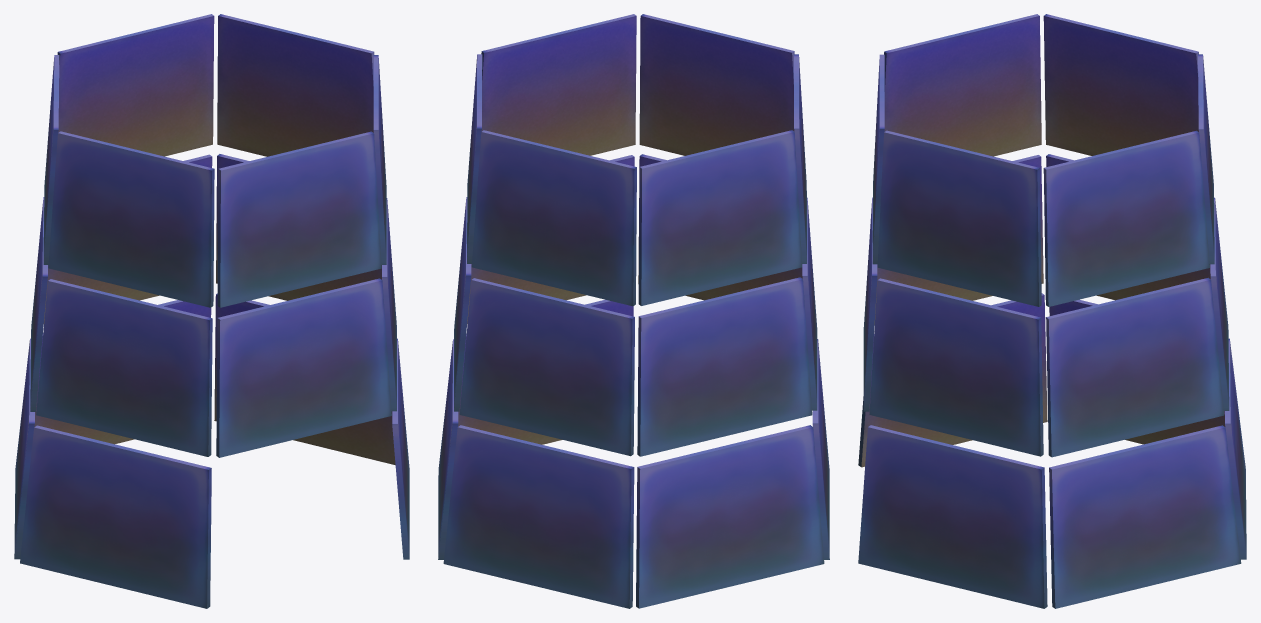
The model's file is hexagon_glass_3store_glass.DAE.
3 renders of one model, left to right at view 1: azimuth 30°, elevation 25°; view 2: azimuth 150°, elevation 25°; view 3: azimuth 270°, elevation 25°, orthographic.
Parts seen in each view (by area): view 1: Object02; view 2: Object02; view 3: Object02.
Boxes of the visible parts, x1,y1,x2,y2 form: Object02: (14, 14, 409, 608); Object02: (438, 14, 829, 608); Object02: (858, 14, 1246, 608).
Bounding box in the file's own units: 37.93 × 39.48 × 32.91.
